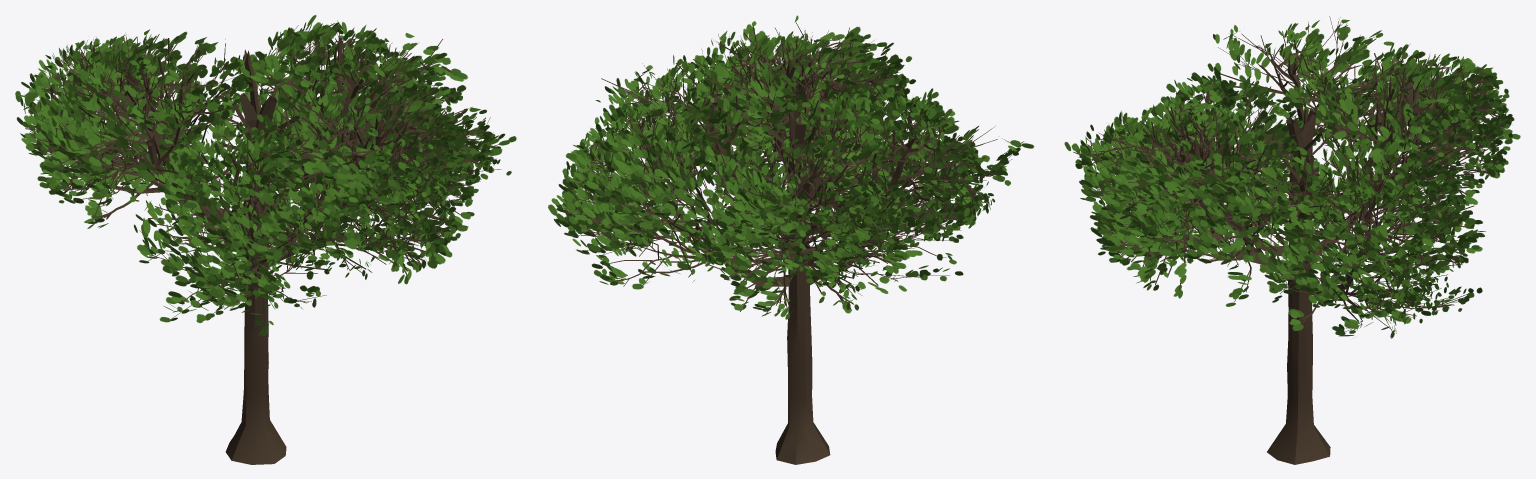
3 renders of one model, left to right at view 1: azimuth 30°, elevation 25°; view 2: azimuth 150°, elevation 25°; view 3: azimuth 270°, elevation 25°, orthographic. The views are drawn at different scales.
Parts seen in each view (by area): view 1: oak 01.001_trunk_Mat.001_0.163; view 2: oak 01.001_trunk_Mat.001_0.163; view 3: oak 01.001_trunk_Mat.001_0.163.
Boxes of the visible parts, bbox=[...] form: oak 01.001_trunk_Mat.001_0.163: bbox=[15, 15, 516, 464]; oak 01.001_trunk_Mat.001_0.163: bbox=[548, 15, 1034, 464]; oak 01.001_trunk_Mat.001_0.163: bbox=[1064, 16, 1520, 464].
Size of the model in its own units: 6.27 by 5.21 by 6.11.
Materials: 2 (1 with a texture image).
